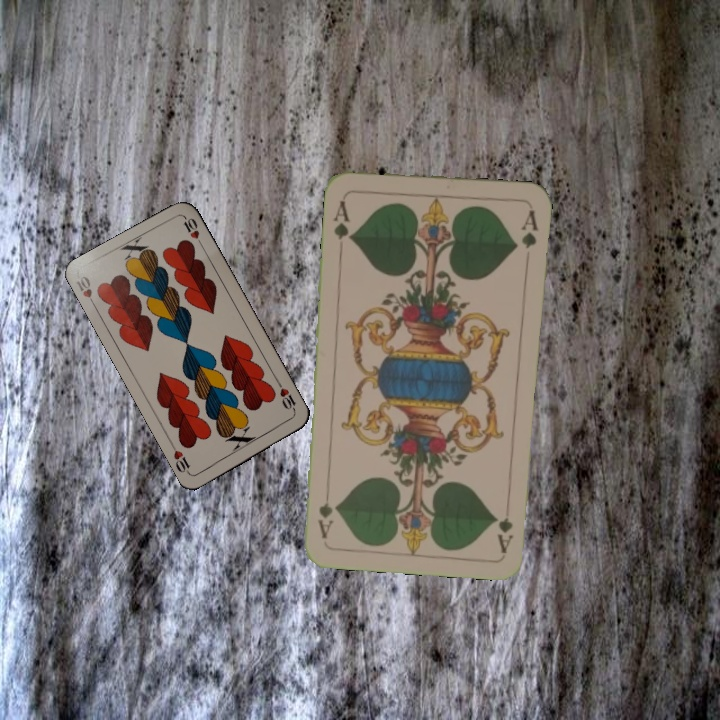GA: (329, 196, 355, 244), (493, 513, 516, 555)
H10: (72, 272, 99, 311), (273, 378, 298, 416)
